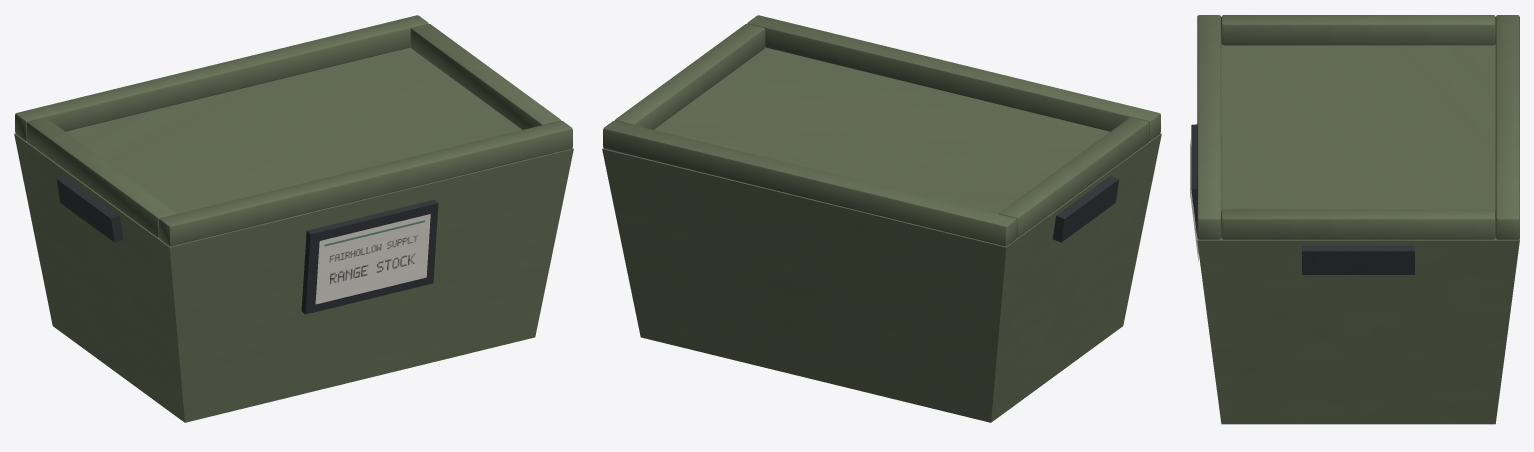
File: storage_tote_olive.glb
The picture shows the model from 3 angles, left to right: view 1: azimuth 30°, elevation 25°; view 2: azimuth 150°, elevation 25°; view 3: azimuth 270°, elevation 25°; orthographic projection. The views are drawn at different scales.
Parts seen in each view (by area): view 1: Tote_Body, Rim_F, Rim_B, Label_Card, Rim_L, Rim_R, Label_Holder, Grip_L; view 2: Tote_Body, Rim_B, Rim_F, Rim_L, Rim_R, Grip_L; view 3: Tote_Body, Rim_R, Rim_L, Rim_B, Rim_F, Grip_R, Label_Holder.
Boxes of the visible parts, box(x1,y1,x2,y2) form: Tote_Body: box(14, 47, 573, 422); Rim_F: box(159, 120, 572, 246); Rim_B: box(15, 15, 428, 140); Label_Card: box(315, 214, 430, 304); Rim_L: box(26, 117, 176, 237); Rim_R: box(410, 24, 560, 129); Label_Holder: box(301, 199, 438, 314); Grip_L: box(57, 176, 123, 242); Tote_Body: box(602, 47, 1161, 422); Rim_B: box(603, 120, 1016, 246); Rim_F: box(747, 15, 1160, 140); Rim_L: box(999, 117, 1149, 237); Rim_R: box(615, 24, 765, 129); Grip_L: box(1052, 176, 1118, 242); Tote_Body: box(1197, 43, 1519, 424); Rim_R: box(1221, 209, 1495, 239); Rim_L: box(1221, 15, 1495, 45); Rim_B: box(1495, 15, 1519, 239); Rim_F: box(1197, 15, 1221, 239); Grip_R: box(1302, 245, 1414, 274); Label_Holder: box(1191, 124, 1197, 236).
Size of the model in its own units: 0.6235 by 0.3 by 0.4088.
4 materials, 3 textured.
